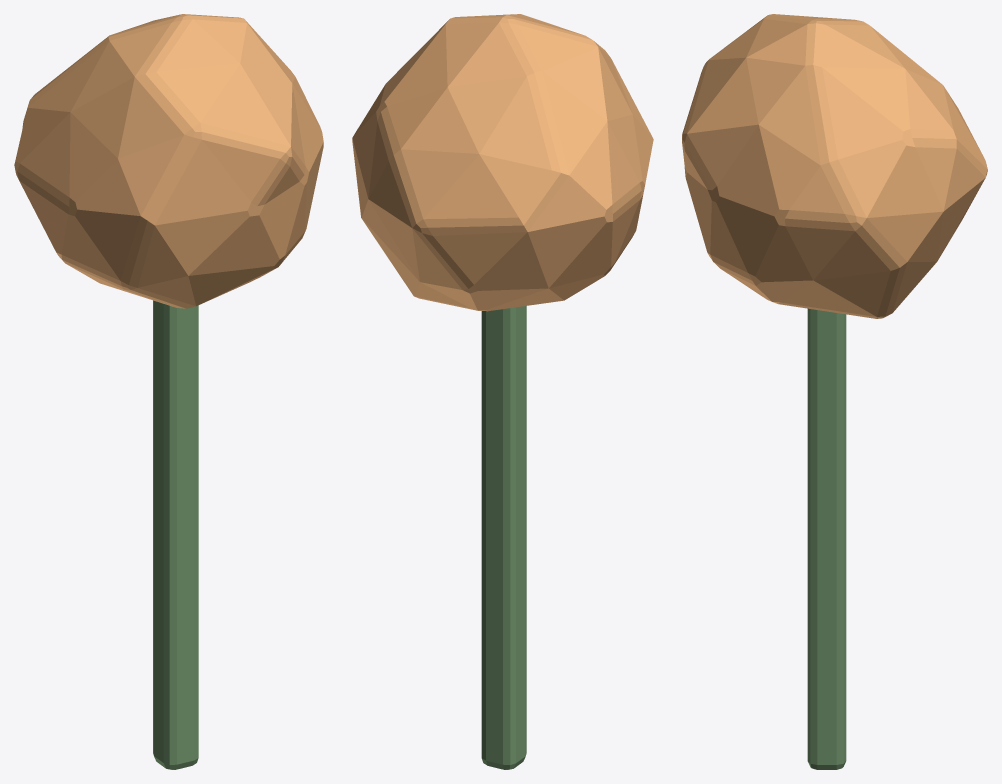
The model's file is wildflower_orange.glb.
3 views of the same model, side by side, from view 1: azimuth 30°, elevation 25°; view 2: azimuth 150°, elevation 25°; view 3: azimuth 270°, elevation 25° (orthographic).
Visible parts, largest first — view 1: Wildflower_orange; view 2: Wildflower_orange; view 3: Wildflower_orange.
Part boxes in pixels (x1,y1,x2,y2): Wildflower_orange: [14, 14, 323, 769]; Wildflower_orange: [352, 14, 653, 769]; Wildflower_orange: [682, 14, 987, 769].
Bounding box in the file's own units: 0.1598 × 0.4233 × 0.1573.
